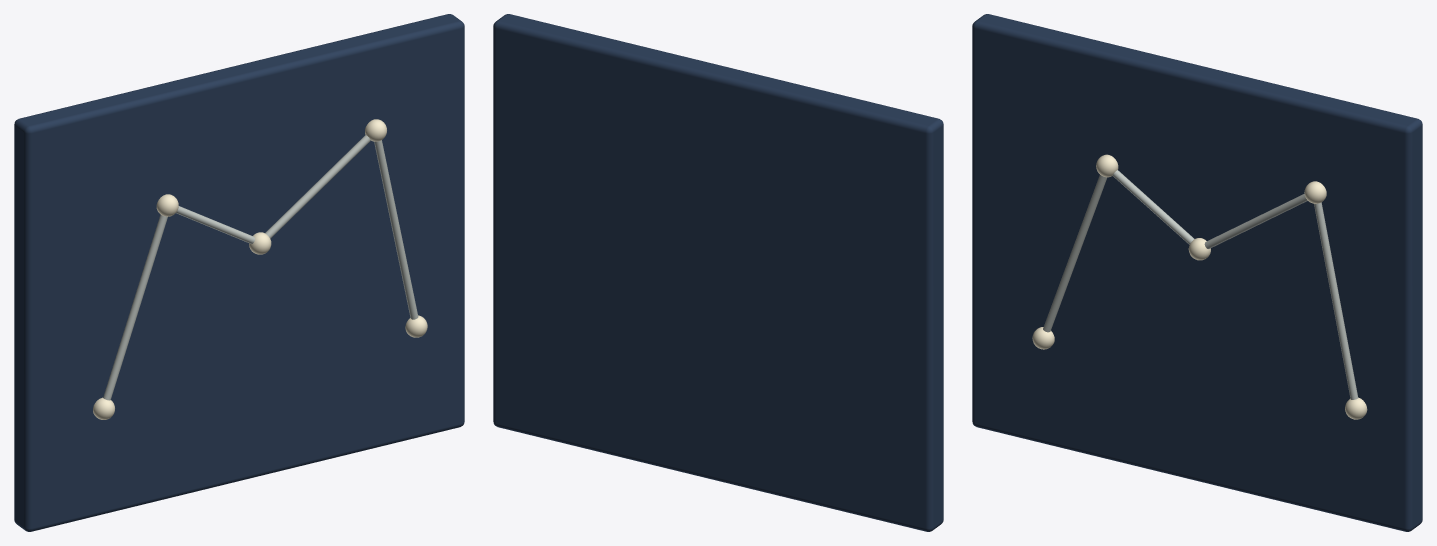
Rendered from planetarium-and-optical-observatory-constellation-exhi-0136109f__31838.glb.
3 renders of one model, left to right at view 1: azimuth 30°, elevation 25°; view 2: azimuth 150°, elevation 25°; view 3: azimuth 330°, elevation 25°, orthographic.
Visible parts, largest first — view 1: constellation-exhibit-panel; view 2: constellation-exhibit-panel; view 3: constellation-exhibit-panel.
Boxes of the visible parts, bbox=[...] form: constellation-exhibit-panel: bbox=[14, 14, 464, 531]; constellation-exhibit-panel: bbox=[493, 14, 943, 531]; constellation-exhibit-panel: bbox=[972, 14, 1422, 531].
Bounding box in the file's own units: 0.76 × 0.67 × 0.0665.
